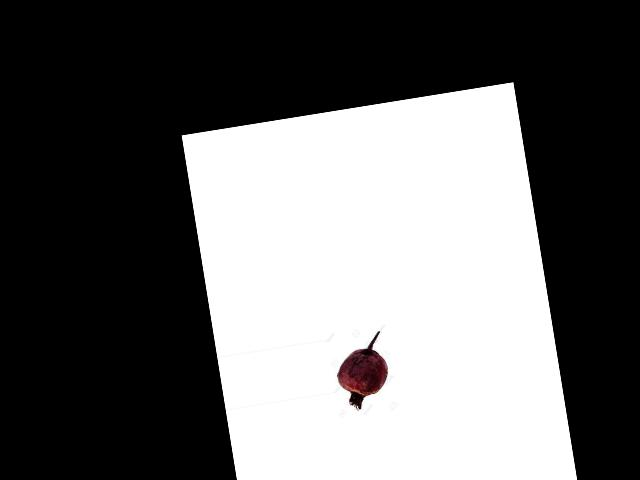beet: (332, 331, 393, 412)
